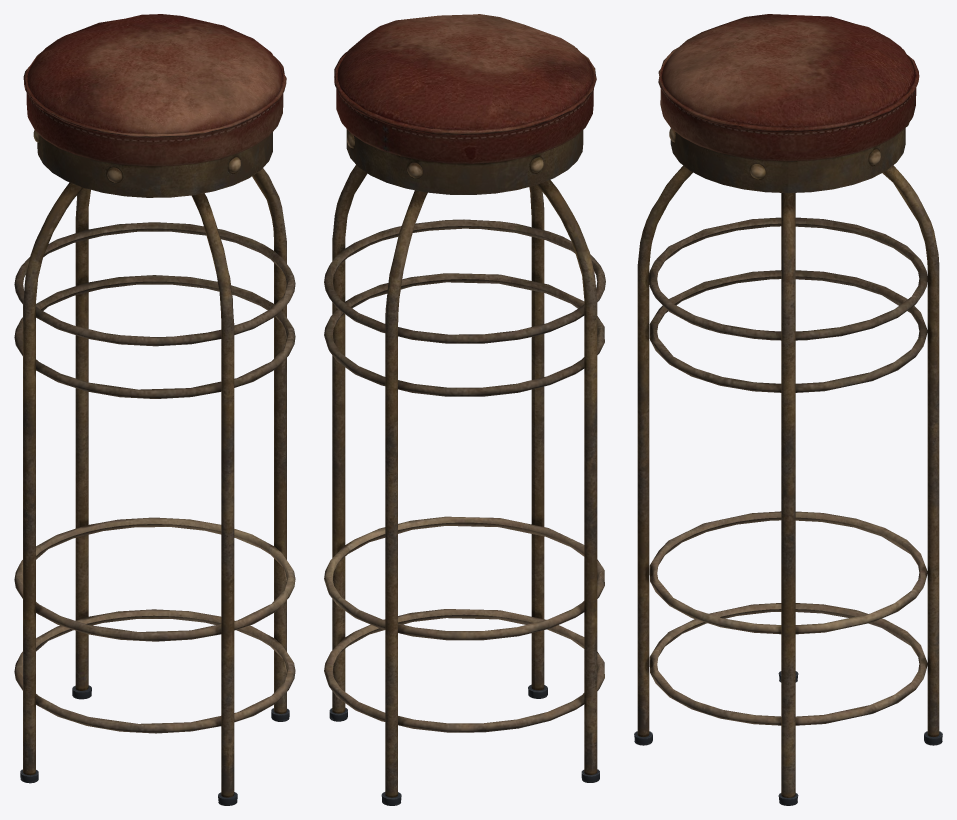
The model's file is MetalStool.obj.
3 renders of one model, left to right at view 1: azimuth 30°, elevation 25°; view 2: azimuth 150°, elevation 25°; view 3: azimuth 270°, elevation 25°, orthographic.
Parts seen in each view (by area): view 1: Stool; view 2: Stool; view 3: Stool.
Part boxes in pixels (box(x1,y1,x2,y2)): Stool: box(14, 14, 295, 805); Stool: box(324, 14, 605, 805); Stool: box(634, 14, 942, 805).
Size of the model in its own units: 0.352 by 0.8828 by 0.3546.
1 material, 1 textured.
